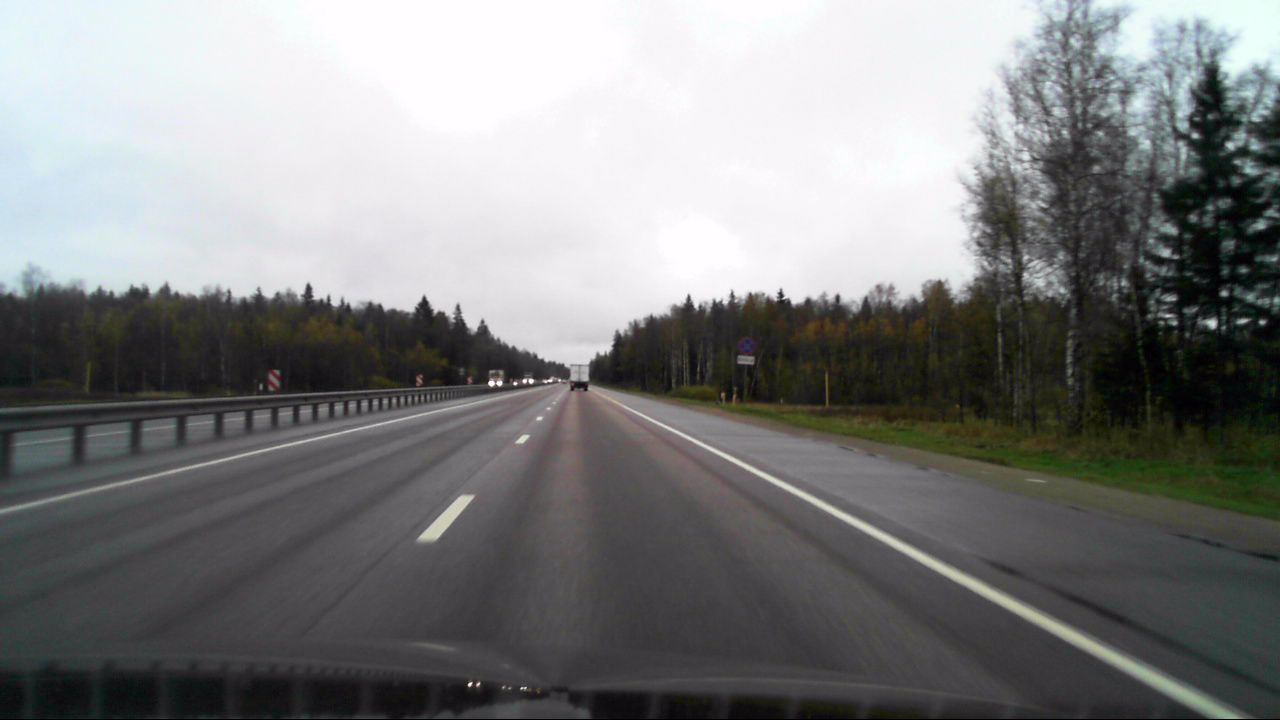No Parking: (738, 337, 755, 354)
